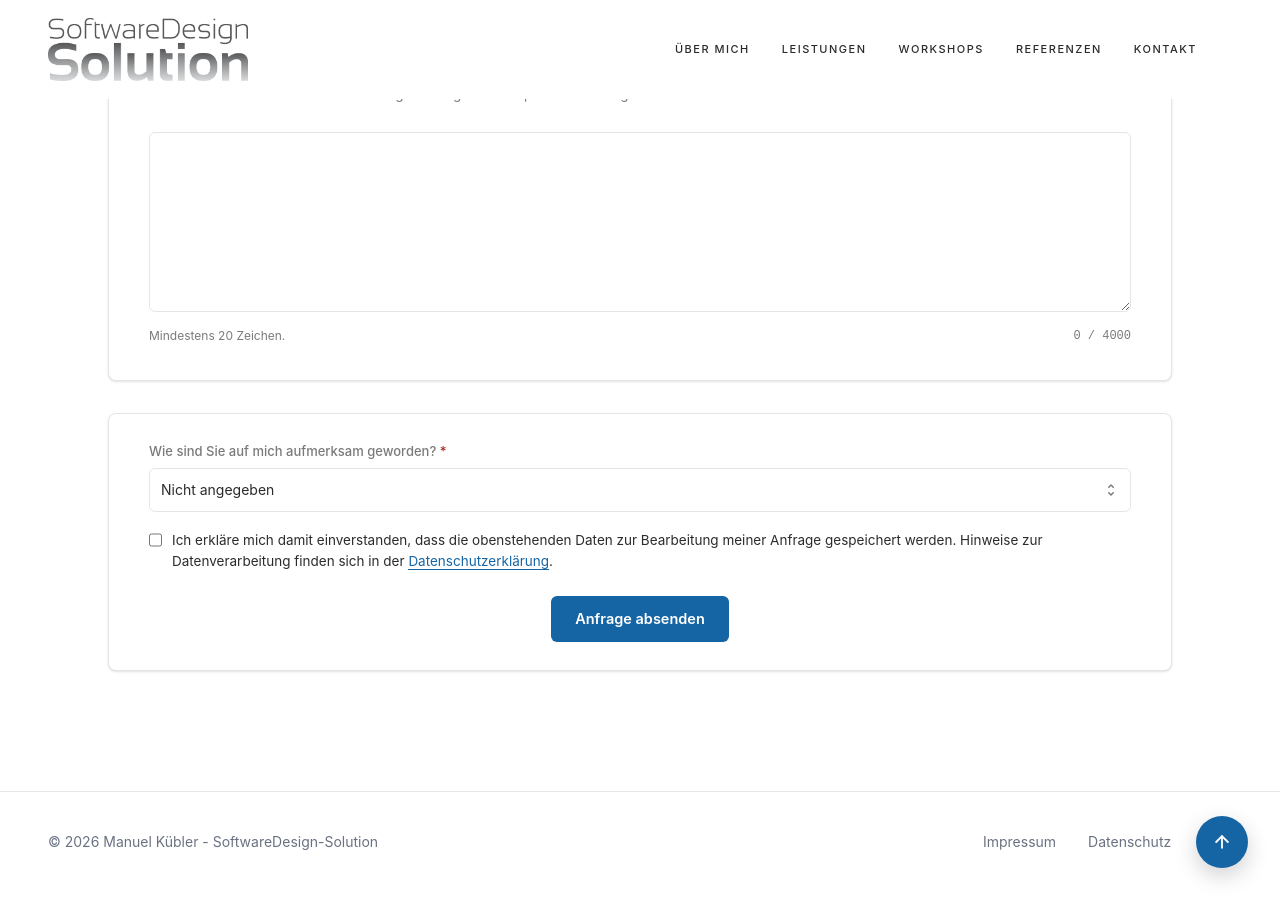
Test: Kontakt-/Anfrageformular (/anfrage) - Happy Path + Validierungsfehler › Validierungsfehler › zeigt die Zod-Schema-Fehlermeldungen, wenn das Formular komplett leer abgesendet wird
(page scrolled)
Lerres Formular absenden
Click the button "Anfrage absenden" at [640, 619], box [551,596,729,642]
(page scrolled)
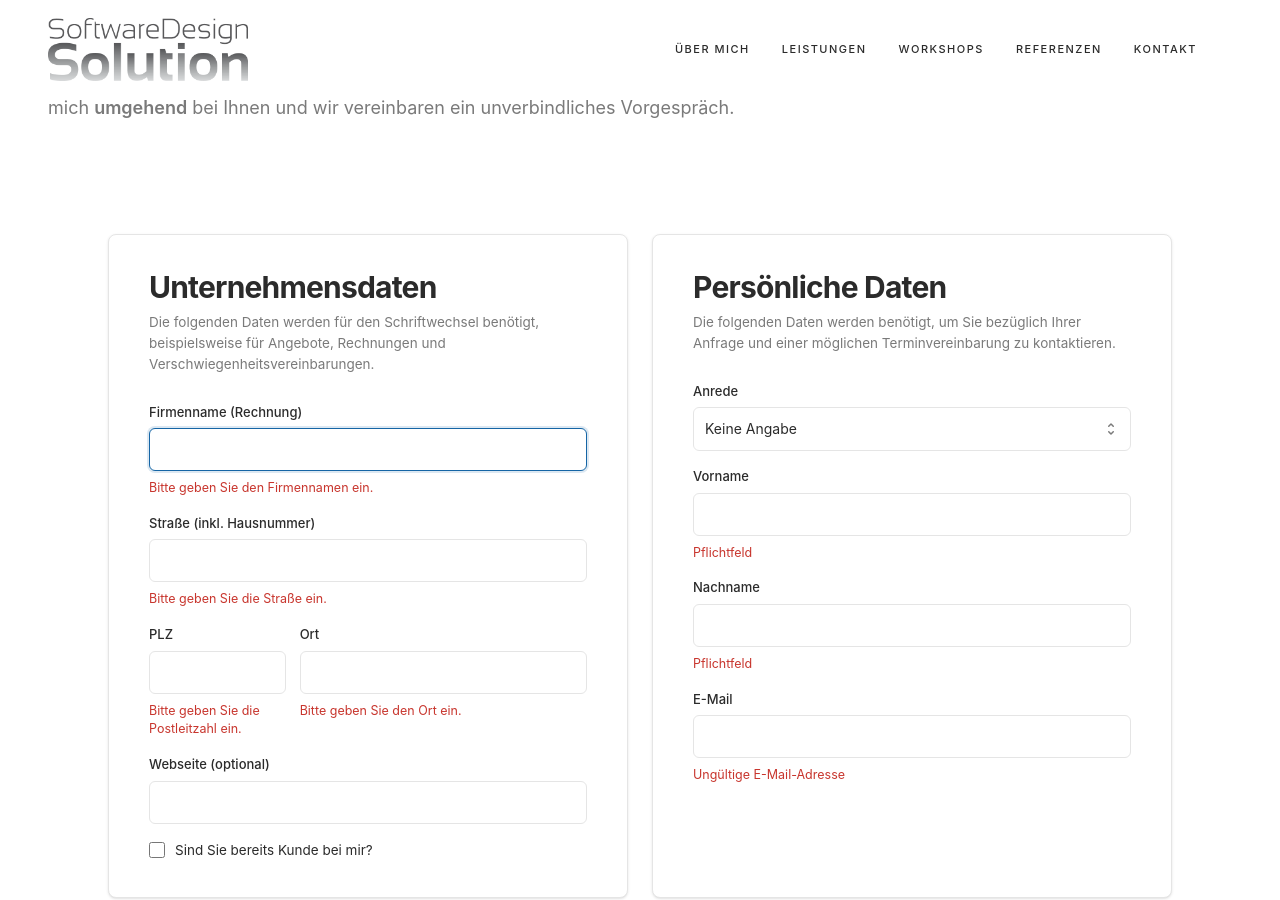
expect the message "Bitte geben Sie den Firmennamen ein." is shown: met, box [149,480,373,495]
expect the message "Bitte geben Sie die Straße ein." is shown: met, box [149,591,327,606]
expect the message "Bitte geben Sie die Postleitzahl ein." is shown: met, box [149,703,260,736]
